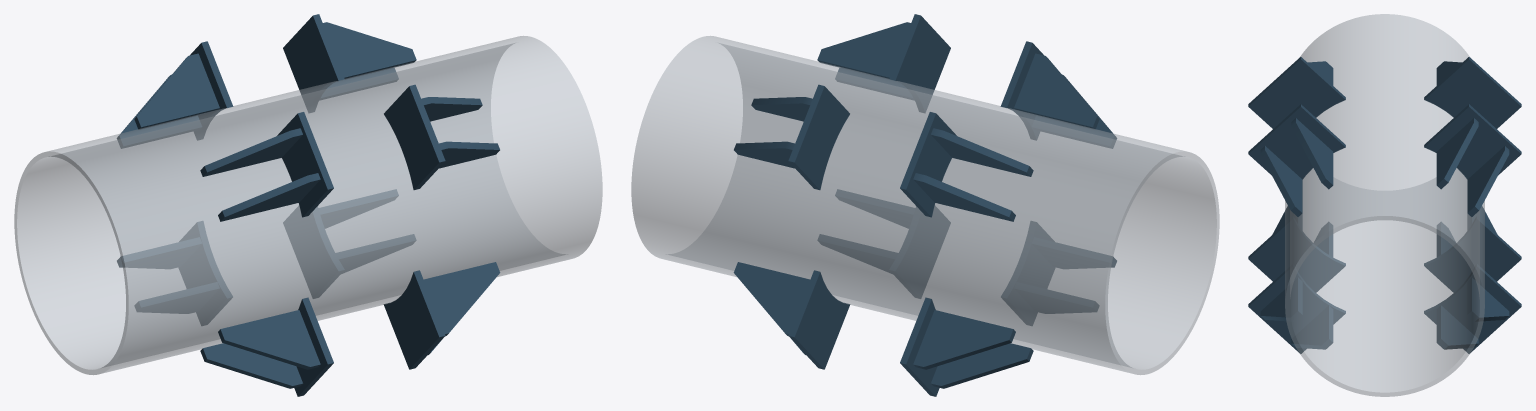
The model's file is TS-661.00.00-05-opora-dn377-ris2.glb.
3 views of the same model, side by side, from view 1: azimuth 30°, elevation 25°; view 2: azimuth 150°, elevation 25°; view 3: azimuth 270°, elevation 25° (orthographic). The views are drawn at different scales.
Visible parts, largest first — view 1: truba, upor_11, upor_24, upor_1, upor_7, upor_19, upor_13, upor_21, upor_8, upor_4, upor_12, upor_16 (+12 smaller); view 2: truba, upor_18, upor_5, upor_19, upor_13, upor_1, upor_7, upor_2, upor_15, upor_22, upor_17, upor_10 (+12 smaller); view 3: truba, upor_4, upor_22, upor_10, upor_16, upor_1, upor_19, upor_7, upor_13, upor_2, upor_21, upor_3 (+11 smaller).
Part boxes in pixels (x1=…): truba: x1=14, y1=36, x2=602, y2=374; upor_11: x1=218, y1=310, x2=320, y2=369; upor_24: x1=134, y1=53, x2=219, y2=129; upor_1: x1=384, y1=84, x2=445, y2=190; upor_7: x1=383, y1=270, x2=445, y2=369; upor_19: x1=283, y1=14, x2=344, y2=112; upor_13: x1=283, y1=206, x2=344, y2=298; upor_21: x1=323, y1=22, x2=416, y2=79; upor_8: x1=424, y1=262, x2=500, y2=336; upor_4: x1=277, y1=112, x2=333, y2=217; upor_12: x1=200, y1=343, x2=302, y2=388; upor_16: x1=179, y1=221, x2=232, y2=325; truba: x1=631, y1=36, x2=1219, y2=374; upor_18: x1=913, y1=310, x2=1015, y2=369; upor_5: x1=1014, y1=53, x2=1099, y2=129; upor_19: x1=788, y1=84, x2=849, y2=190; upor_13: x1=788, y1=270, x2=850, y2=369; upor_1: x1=889, y1=14, x2=950, y2=112; upor_7: x1=889, y1=206, x2=950, y2=298; upor_2: x1=817, y1=22, x2=910, y2=79; upor_15: x1=733, y1=262, x2=809, y2=336; upor_22: x1=900, y1=112, x2=956, y2=217; upor_17: x1=931, y1=343, x2=1033, y2=388; upor_10: x1=1001, y1=221, x2=1054, y2=325; truba: x1=1285, y1=14, x2=1484, y2=396; upor_4: x1=1248, y1=57, x2=1345, y2=128; upor_22: x1=1424, y1=57, x2=1521, y2=128; upor_10: x1=1248, y1=216, x2=1345, y2=292; upor_16: x1=1424, y1=216, x2=1521, y2=292; upor_1: x1=1248, y1=104, x2=1345, y2=179; upor_19: x1=1424, y1=104, x2=1521, y2=179; upor_7: x1=1248, y1=264, x2=1345, y2=353; upor_13: x1=1424, y1=264, x2=1521, y2=353; upor_2: x1=1291, y1=118, x2=1333, y2=189; upor_21: x1=1436, y1=118, x2=1478, y2=189; upor_3: x1=1260, y1=146, x2=1302, y2=216.
Bounding box in the file's own units: 901 × 515 × 515.
